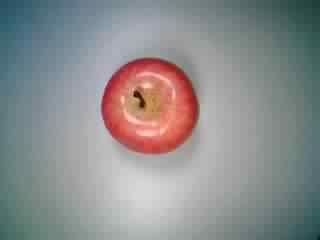apple: (99, 54, 204, 156)
